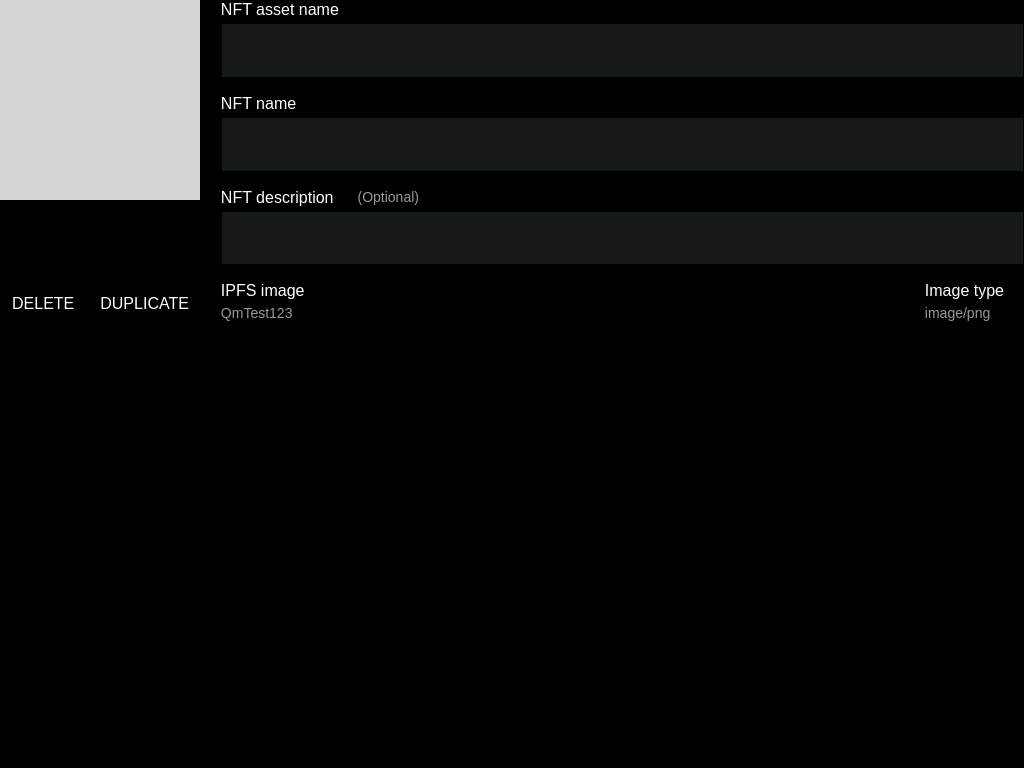
Test: NFTDataInput › should close modal without deleting when cancel is clicked
Click the button "Delete" at (43, 304), box [0,286,86,321]
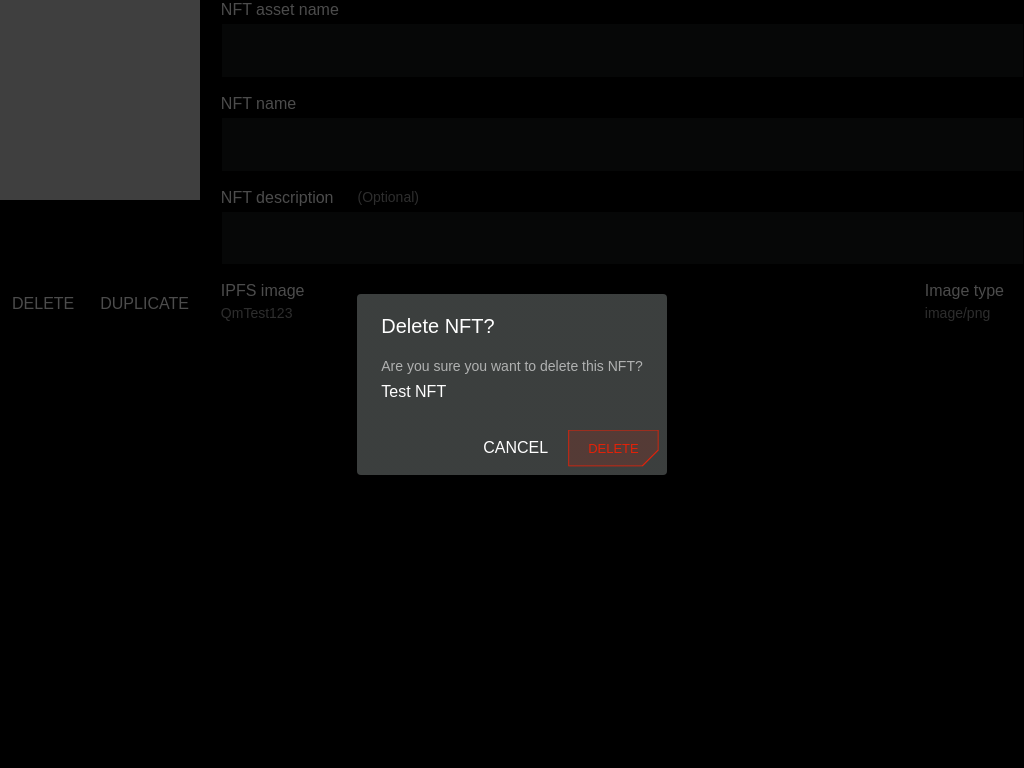
Click the button "Cancel" at (516, 448), box [471,430,560,466]
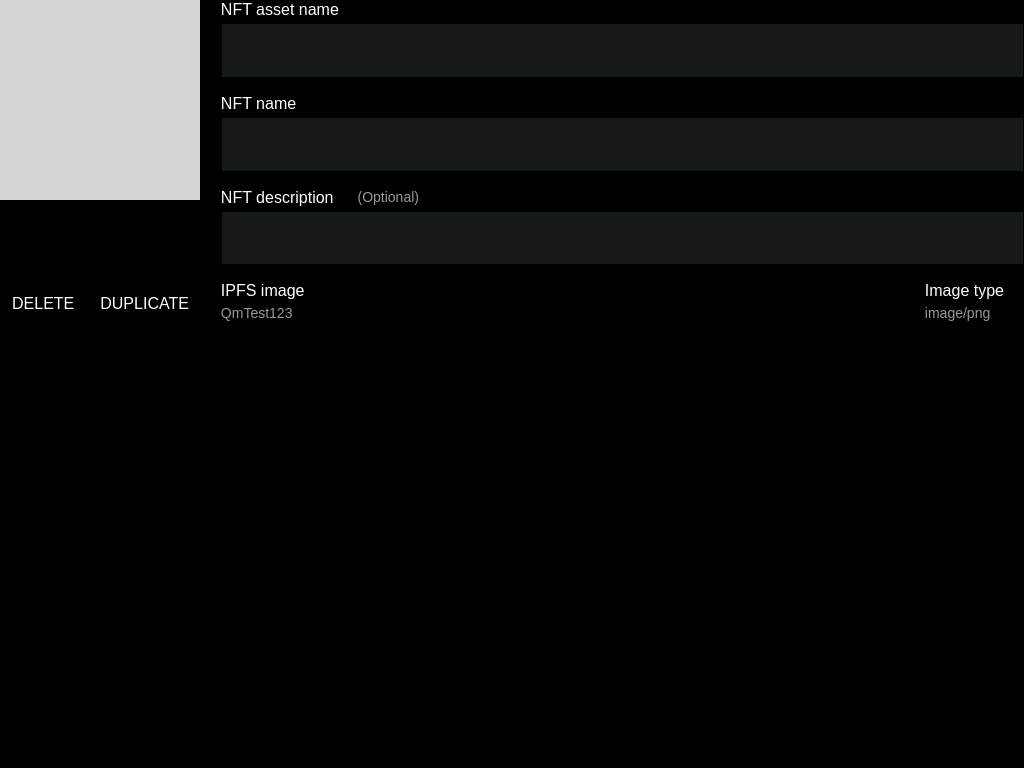
Now the heading "Delete NFT?" is gone
